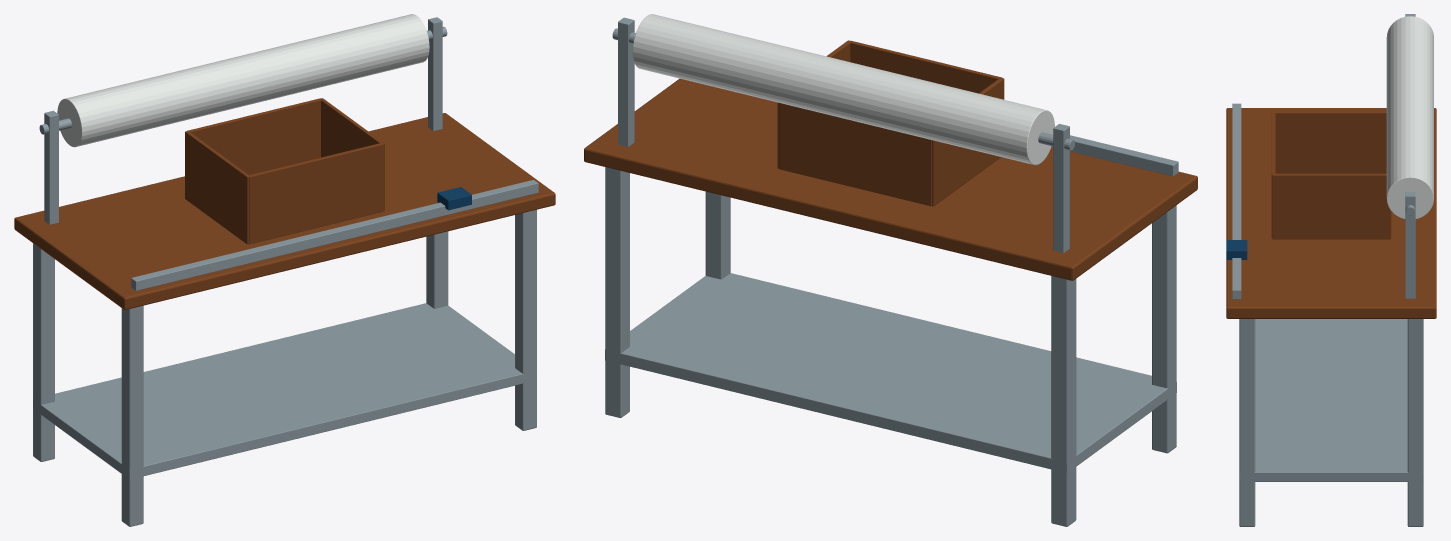
The model's file is edited.glb.
3 renders of one model, left to right at view 1: azimuth 30°, elevation 25°; view 2: azimuth 150°, elevation 25°; view 3: azimuth 270°, elevation 25°, orthographic. The views are drawn at different scales.
Visible parts, largest first — view 1: LOWER_Shelf, WORKTOP, PAPER_Roll, CARTON_End.001, CARTON_End, CUTTER_Guide, LEG, LEG.002, CARTON_Side.001, LEG.001, CARTON_Side, LEG.003 (+2 smaller); view 2: LOWER_Shelf, WORKTOP, PAPER_Roll, CARTON_End, LEG.001, LEG.003, LEG, CARTON_End.001, CARTON_Side.001, LEG.002, ROLL_Stand, ROLL_Stand.001 (+1 smaller); view 3: LOWER_Shelf, WORKTOP, PAPER_Roll, CARTON_Side, CARTON_Side.001, LEG.002, LEG.003, CUTTER_Guide, ROLL_Stand.001, CARTON_End.001, CUTTER_SafeCarriage.
Boxes of the visible parts, x1=… form: LOWER_Shelf: x1=33, y1=303, x2=536, y2=479; WORKTOP: x1=14, y1=113, x2=555, y2=309; PAPER_Roll: x1=57, y1=14, x2=429, y2=147; CARTON_End.001: x1=248, y1=143, x2=383, y2=244; CARTON_End: x1=187, y1=98, x2=320, y2=174; CUTTER_Guide: x1=131, y1=179, x2=538, y2=290; LEG: x1=121, y1=305, x2=143, y2=526; LEG.002: x1=515, y1=209, x2=536, y2=430; CARTON_Side.001: x1=185, y1=131, x2=249, y2=244; LEG.001: x1=33, y1=243, x2=54, y2=461; CARTON_Side: x1=320, y1=98, x2=384, y2=211; LEG.003: x1=426, y1=231, x2=448, y2=308; LOWER_Shelf: x1=605, y1=273, x2=1176, y2=472; WORKTOP: x1=584, y1=78, x2=1197, y2=280; PAPER_Roll: x1=632, y1=14, x2=1054, y2=165; CARTON_End: x1=779, y1=103, x2=931, y2=206; LEG.001: x1=1051, y1=276, x2=1076, y2=526; LEG.003: x1=605, y1=167, x2=629, y2=417; LEG: x1=1152, y1=205, x2=1176, y2=453; CARTON_End.001: x1=850, y1=40, x2=1002, y2=93; CARTON_Side.001: x1=932, y1=77, x2=1004, y2=206; LEG.002: x1=705, y1=191, x2=730, y2=279; ROLL_Stand: x1=1053, y1=124, x2=1069, y2=252; ROLL_Stand.001: x1=618, y1=17, x2=634, y2=146; LOWER_Shelf: x1=1239, y1=319, x2=1423, y2=481; WORKTOP: x1=1226, y1=108, x2=1436, y2=318; PAPER_Roll: x1=1386, y1=16, x2=1433, y2=219; CARTON_Side: x1=1272, y1=173, x2=1390, y2=239; CARTON_Side.001: x1=1272, y1=111, x2=1386, y2=173; LEG.002: x1=1239, y1=319, x2=1255, y2=526; LEG.003: x1=1407, y1=319, x2=1423, y2=526; CUTTER_Guide: x1=1232, y1=103, x2=1241, y2=299; ROLL_Stand.001: x1=1405, y1=192, x2=1415, y2=298; CARTON_End.001: x1=1271, y1=112, x2=1275, y2=237; CUTTER_SafeCarriage: x1=1226, y1=240, x2=1247, y2=259.
Size of the model in its own units: 1.8 by 1.41 by 0.8.
